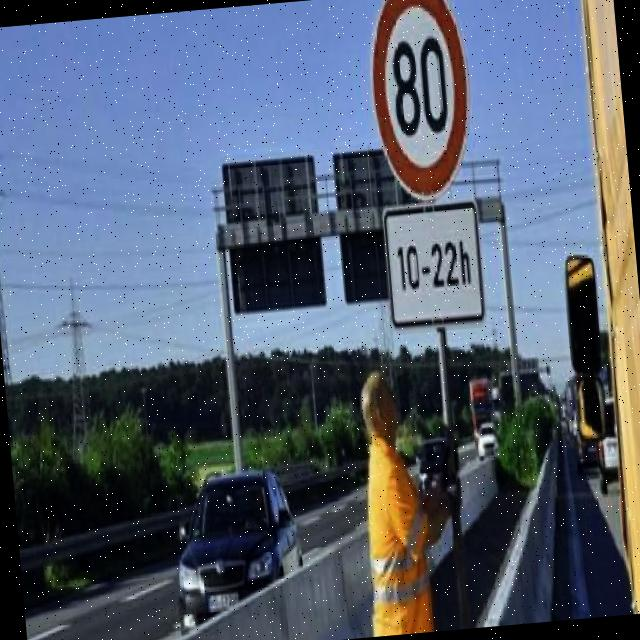Ograniczenie predkosci do 80: (366, 0, 479, 203)
